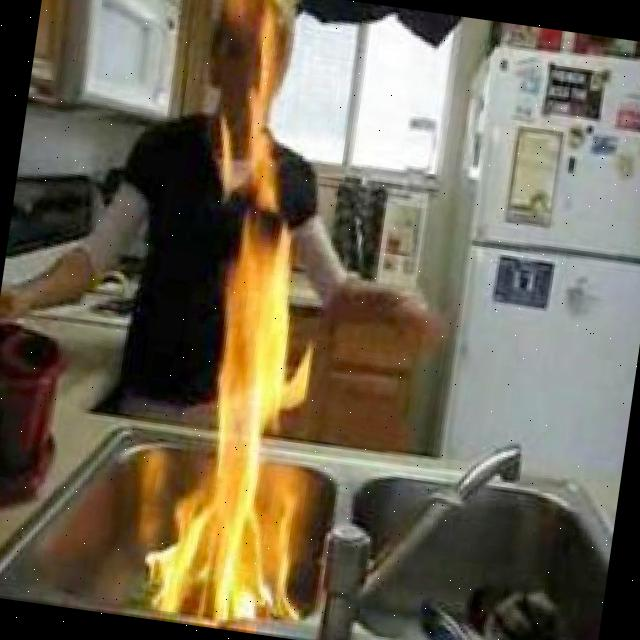fire: (141, 158, 352, 628), (197, 0, 307, 159)
